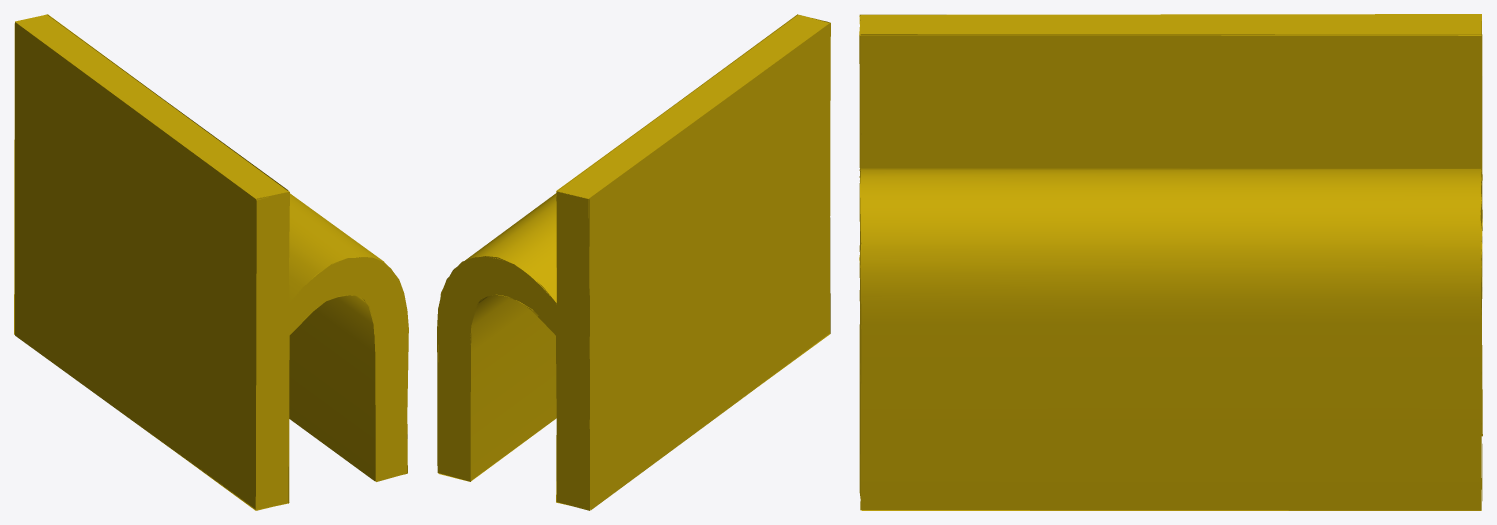
The model's file is original_3.obj.
3 views of the same model, side by side, from view 1: azimuth 30°, elevation 25°; view 2: azimuth 150°, elevation 25°; view 3: azimuth 270°, elevation 25° (orthographic). The views are drawn at different scales.
Visible parts, largest first — view 1: #ID19; view 2: #ID19; view 3: #ID19.
Part boxes in pixels (left/top/right/bottom): #ID19: left=14, top=14, right=408, bottom=510; #ID19: left=437, top=14, right=830, bottom=510; #ID19: left=859, top=14, right=1482, bottom=510.
Size of the model in its own units: 0.0283 by 0.0553 by 0.0775.
